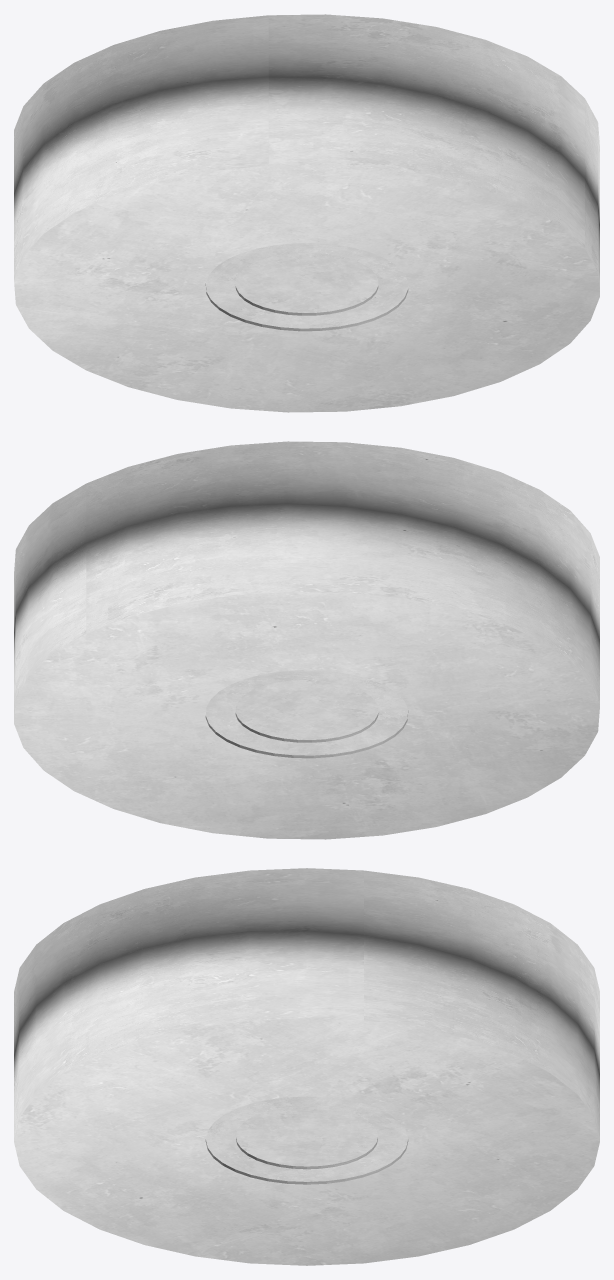
The model's file is showcase.glb.
3 views of the same model, one above another, from view 1: azimuth 30°, elevation 25°; view 2: azimuth 150°, elevation 25°; view 3: azimuth 270°, elevation 25° (orthographic).
Parts seen in each view (by area): view 1: Cylinder, Cylinder.002, Cylinder.001; view 2: Cylinder, Cylinder.002, Cylinder.001; view 3: Cylinder, Cylinder.002, Cylinder.001.
Part boxes in pixels (x1,y1,x2,y2): Cylinder: (14,14,599,412); Cylinder.002: (235,253,378,315); Cylinder.001: (205,243,408,331); Cylinder: (14,441,599,839); Cylinder.002: (235,680,378,742); Cylinder.001: (205,670,408,758); Cylinder: (14,868,599,1265); Cylinder.002: (236,1106,377,1169); Cylinder.001: (205,1096,408,1184).
Bounding box in the file's own units: 9.5 × 2.69 × 9.5.
3 materials, 3 textured.
